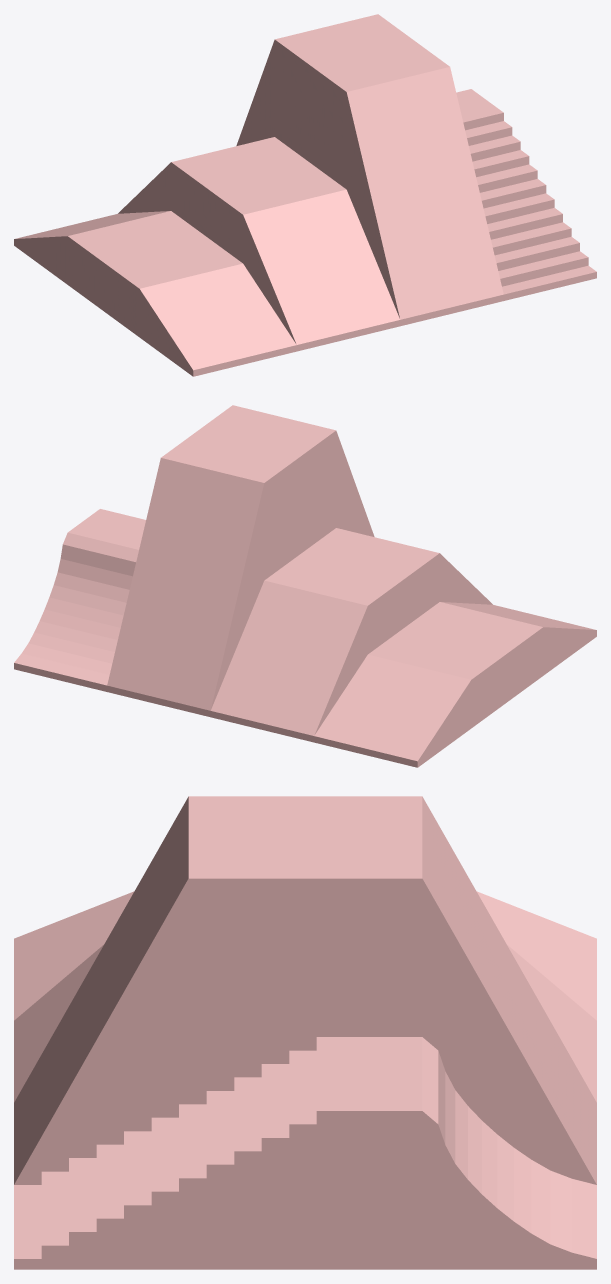
Rendered from slopes.glb.
3 views of the same model, one above another, from view 1: azimuth 30°, elevation 25°; view 2: azimuth 150°, elevation 25°; view 3: azimuth 270°, elevation 25° (orthographic). The views are drawn at different scales.
Visible parts, largest first — view 1: slopes.003, slopes.002, slopes.001, stairs; view 2: slopes.003, slopes.002, slopes.001, stairs; view 3: slopes.003, stairs, slopes.001, slopes.002.
Part boxes in pixels (<box>): slopes.003: <box>236,14,503,326</box>; slopes.002: <box>118,137,400,351</box>; slopes.001: <box>14,211,296,376</box>; stairs: <box>456,89,596,300</box>; slopes.003: <box>107,405,374,717</box>; slopes.002: <box>210,528,492,742</box>; slopes.001: <box>314,602,596,767</box>; stairs: <box>14,509,145,691</box>; slopes.003: <box>14,796,596,1184</box>; stairs: <box>14,1037,596,1269</box>; slopes.001: <box>14,891,596,1020</box>; slopes.002: <box>14,945,596,1102</box>.
Bounding box in the file's own units: 13 × 6 × 10.
